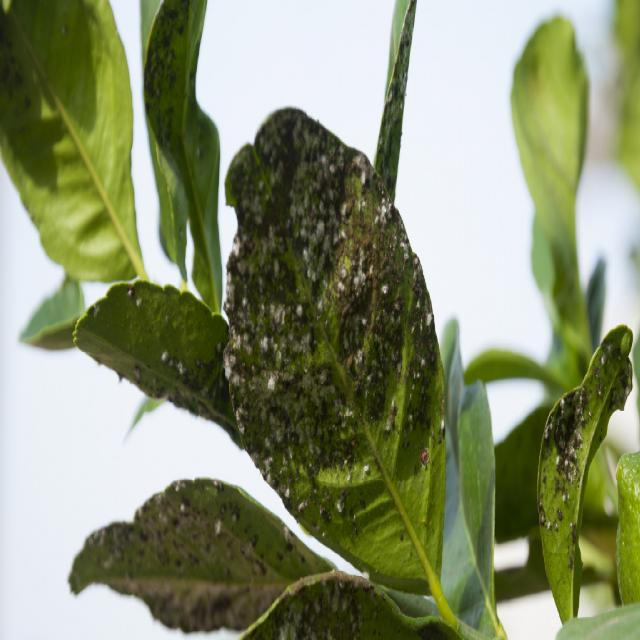Aphid-Grouped-: (208, 106, 440, 506)
